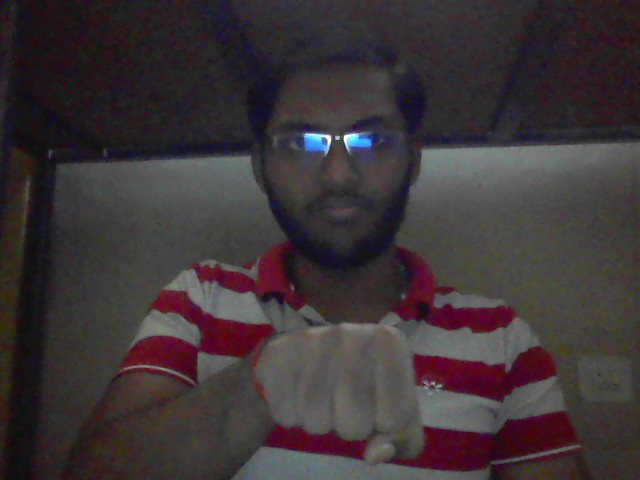Not_Hungry: (214, 289, 465, 469)
